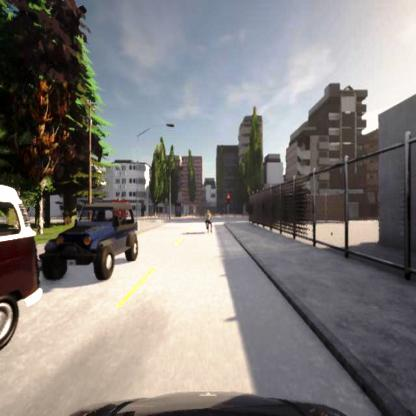bike: (204, 209, 212, 232)
vehicle: (40, 201, 140, 282)
